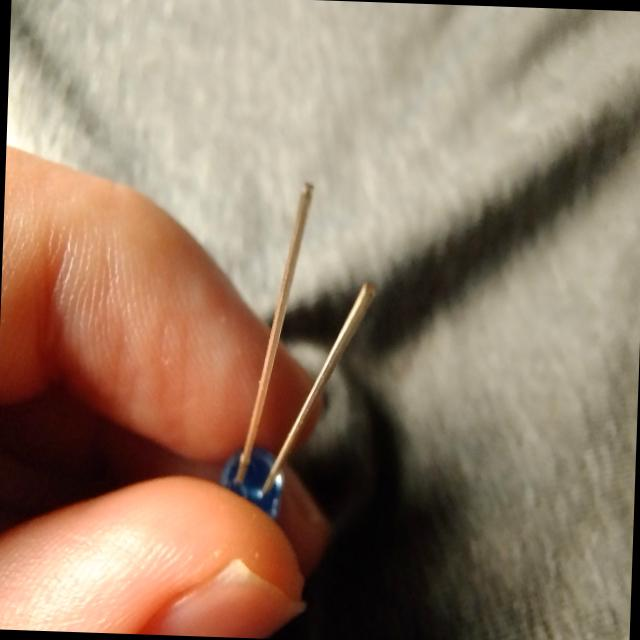blue_led: (218, 442, 286, 520)
